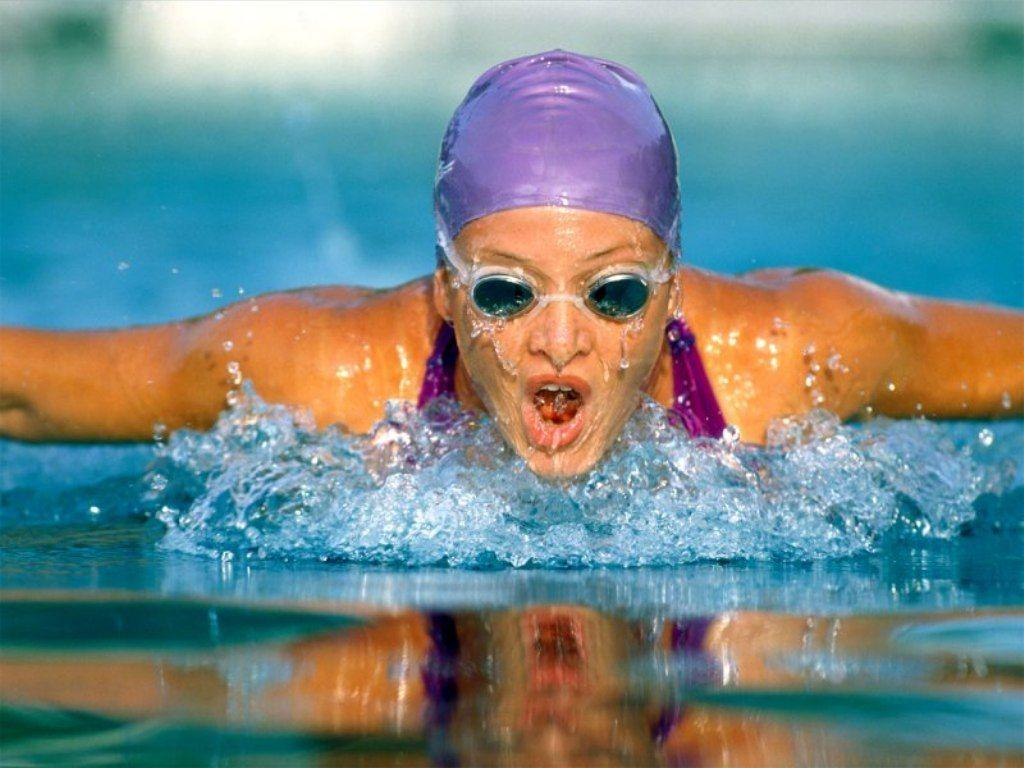face: (452, 214, 664, 478)
